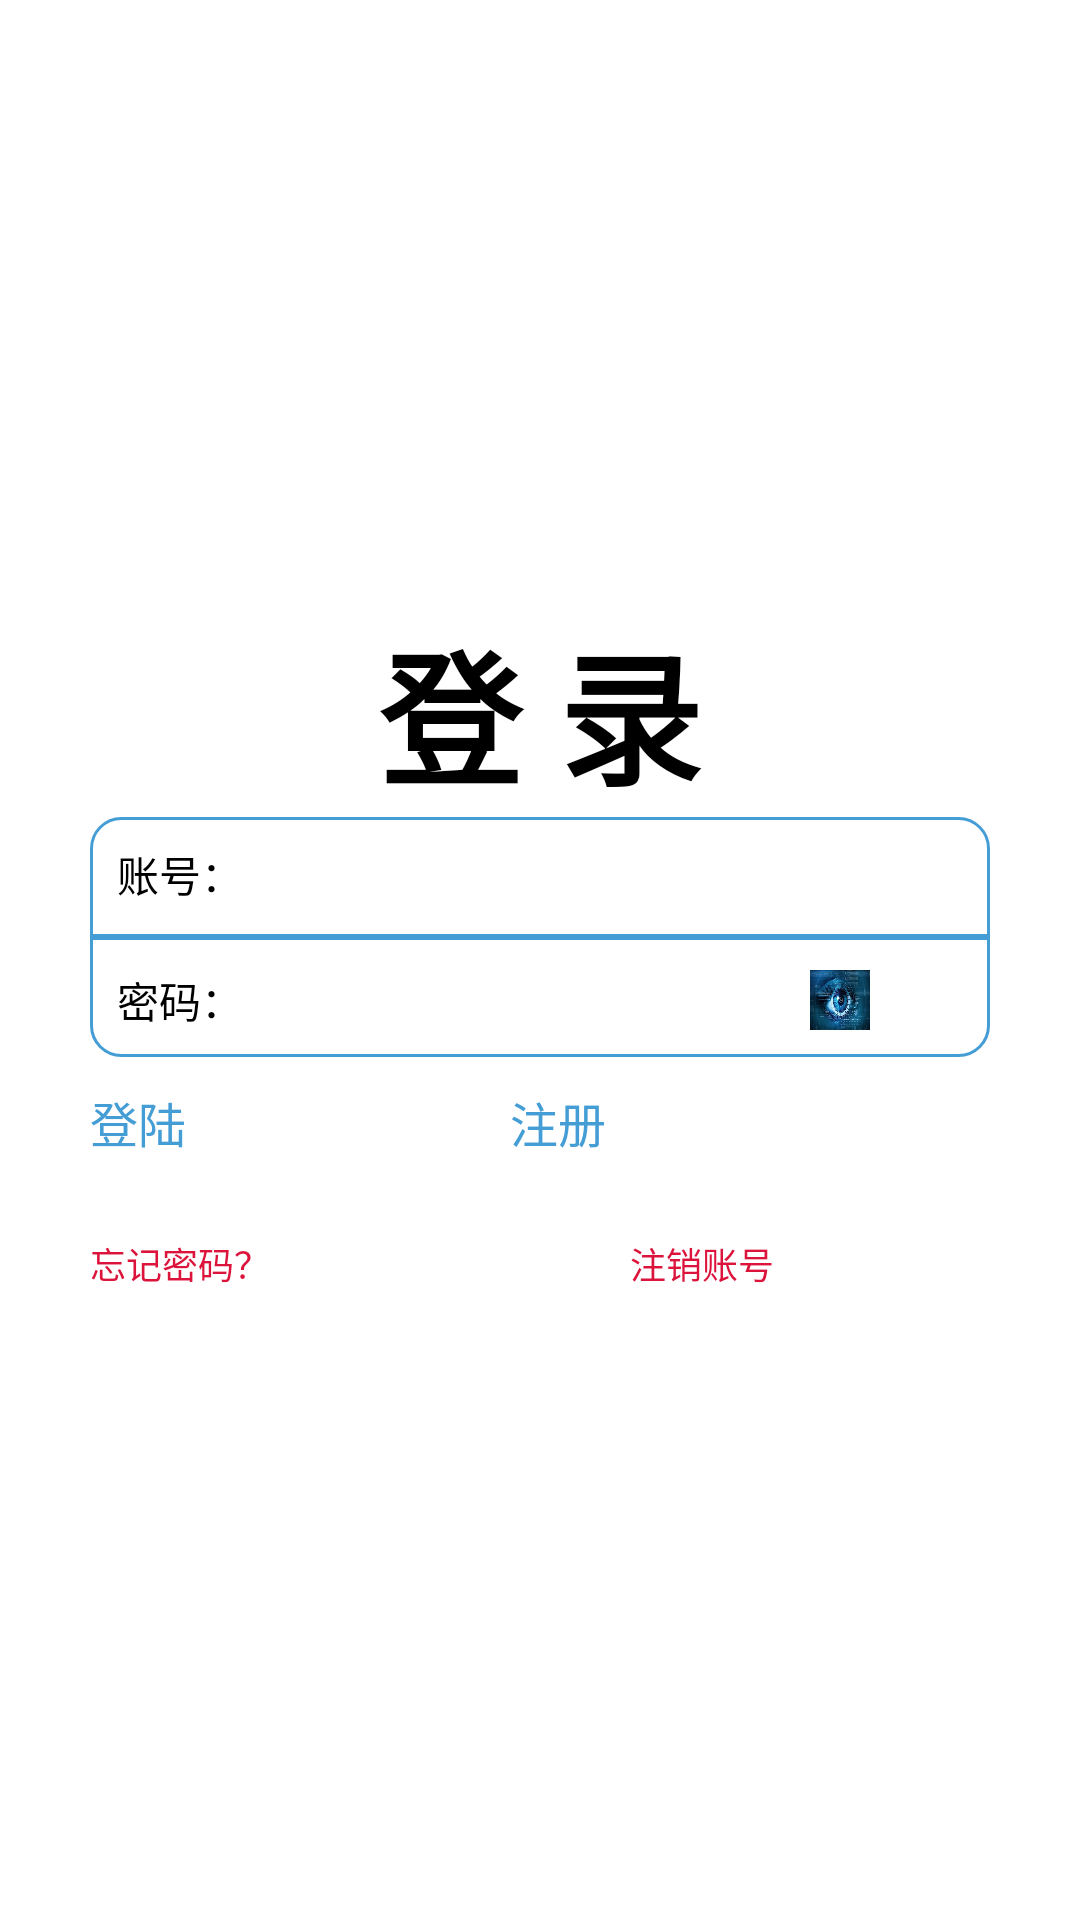

Icon click points for this 1080×1920 phone screenshot, format (x,y):
eye: (840,1000)
